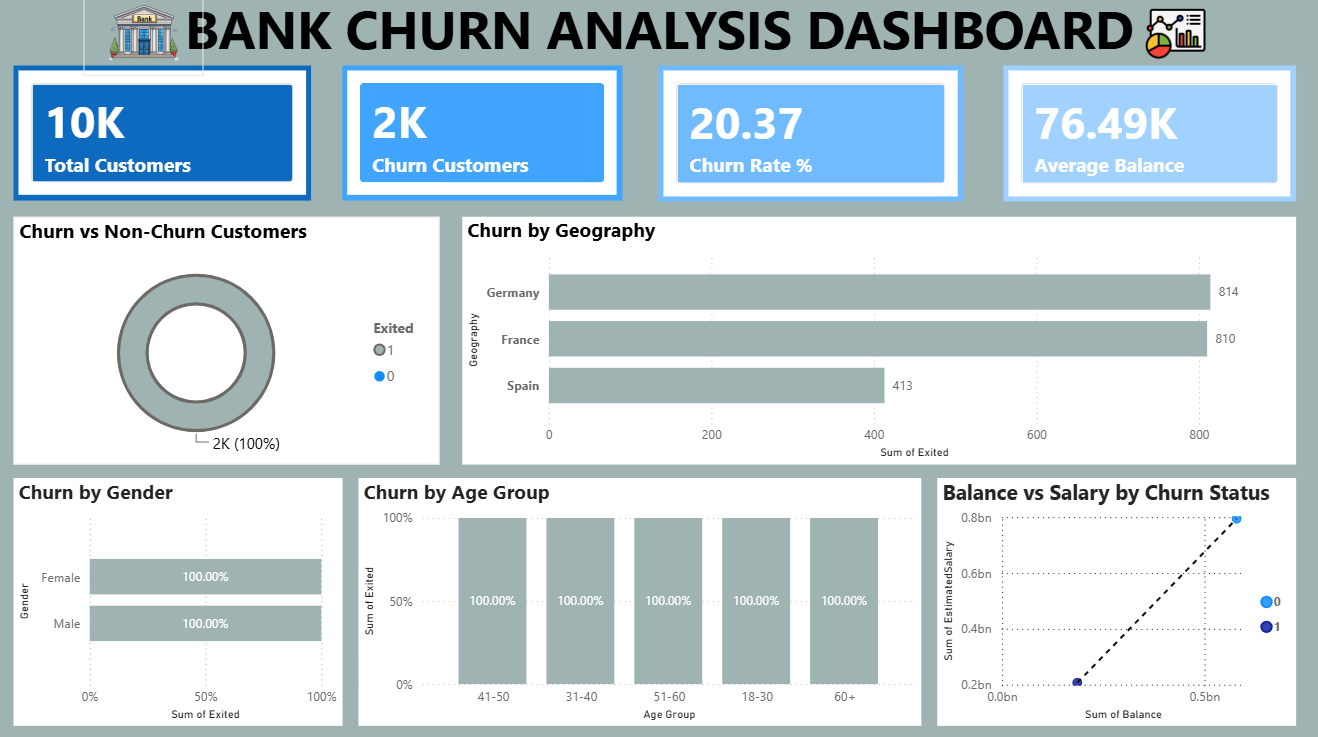

Layout of this report page (visuals, bound fields, positions):
{"tool":"powerbi","page":{"name":"Page 1","canvas":[1280,720],"ordinal":0},"visuals":[{"type":"cardVisual","fields":{"Data":["churn.Total Customers"]},"box":[16.9,70,287.1,130.3],"z":0},{"type":"cardVisual","fields":{"Data":["churn.Churn Customers"]},"box":[334.2,70,270.2,130.3],"z":1},{"type":"cardVisual","fields":{"Data":["churn.Churn Rate %"]},"box":[639.4,70,294.4,131.5],"z":2},{"type":"cardVisual","fields":{"Data":["churn.Average Balance"]},"box":[972.4,70,282.3,131.5],"z":3},{"type":"donutChart","title":"Churn vs Non-Churn Customers","fields":{"Category":["churn.Exited"],"Y":["Sum(churn.Exited)"]},"box":[16.9,216,411.4,238.9],"z":4},{"type":"clusteredBarChart","title":"Churn by Geography","fields":{"Category":["churn.Geography"],"Y":["Sum(churn.Exited)"]},"box":[450,216,804.7,238.9],"z":5},{"type":"hundredPercentStackedBarChart","title":"Churn by Gender","fields":{"Category":["churn.Gender"],"Y":["Sum(churn.Exited)"]},"box":[16.9,468.1,317.3,238.9],"z":6},{"type":"hundredPercentStackedColumnChart","title":"Churn by Age Group","fields":{"Category":["churn.Age Group"],"Y":["Sum(churn.Exited)"]},"box":[349.9,468.1,542.9,238.9],"z":7},{"type":"scatterChart","title":"Balance vs Salary by Churn Status","fields":{"X":["Sum(churn.Balance)"],"Y":["Sum(churn.EstimatedSalary)"],"Series":["churn.Exited"]},"box":[908.4,468.1,346.2,238.9],"z":8},{"type":"textbox","title":"BANK CHURN ANALYSIS DASHBOARD","box":[0,0,1280,60.3],"z":9},{"type":"image","box":[84.5,0,115.8,79.6],"z":10},{"type":"image","box":[1062.9,8.4,150.8,61.5],"z":11}]}

Visuals, with their boxes in screenshot pixels (x1, y1, x2, y2), scaled from the page's 1280x720 canvas onto the 1318x737 screenshot:
cardVisual - churn.Total Customers: left=17, top=72, right=313, bottom=205
cardVisual - churn.Churn Customers: left=344, top=72, right=622, bottom=205
cardVisual - churn.Churn Rate %: left=658, top=72, right=962, bottom=206
cardVisual - churn.Average Balance: left=1001, top=72, right=1292, bottom=206
"Churn vs Non-Churn Customers" donutChart: left=17, top=221, right=441, bottom=466
"Churn by Geography" clusteredBarChart: left=463, top=221, right=1292, bottom=466
"Churn by Gender" hundredPercentStackedBarChart: left=17, top=479, right=344, bottom=724
"Churn by Age Group" hundredPercentStackedColumnChart: left=360, top=479, right=919, bottom=724
"Balance vs Salary by Churn Status" scatterChart: left=935, top=479, right=1292, bottom=724
"BANK CHURN ANALYSIS DASHBOARD" textbox: left=0, top=0, right=1317, bottom=62
image: left=87, top=0, right=206, bottom=81
image: left=1094, top=9, right=1250, bottom=72
